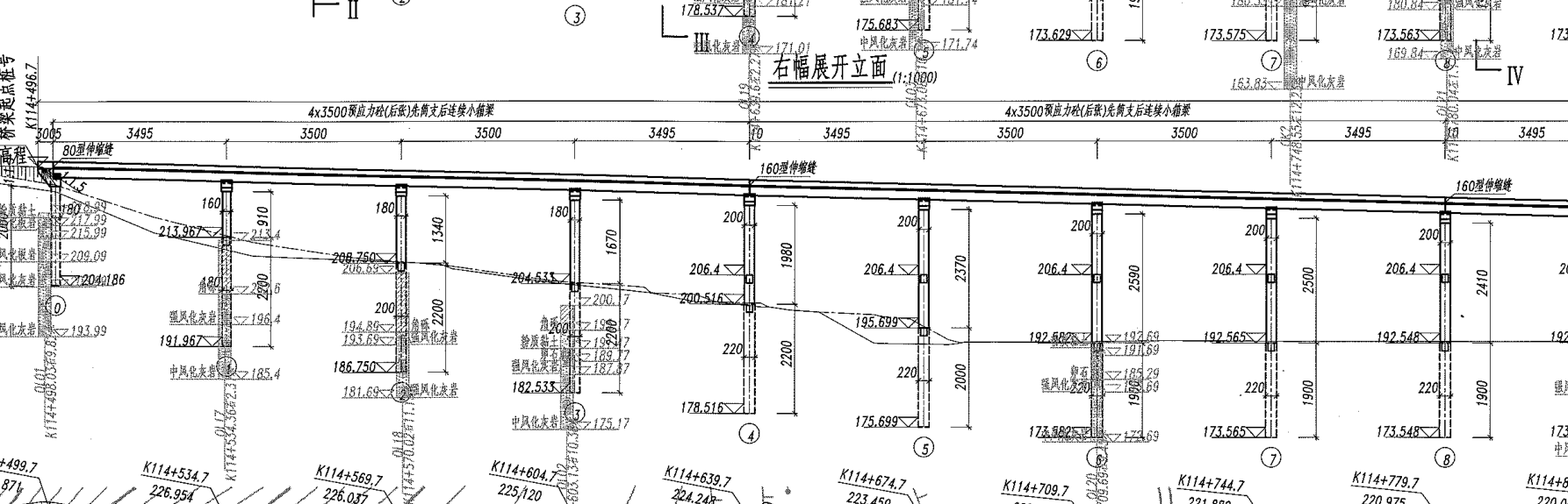B: (47, 102, 749, 131), (740, 103, 1456, 130)
C: (669, 187, 772, 449), (1022, 195, 1119, 469), (1369, 204, 1466, 474), (1196, 201, 1291, 473), (852, 191, 946, 463), (503, 182, 594, 429), (333, 179, 421, 408), (151, 173, 245, 382), (1024, 1, 1119, 78), (1199, 1, 1286, 76), (1378, 1, 1464, 75), (857, 1, 939, 66), (681, 1, 766, 52)
